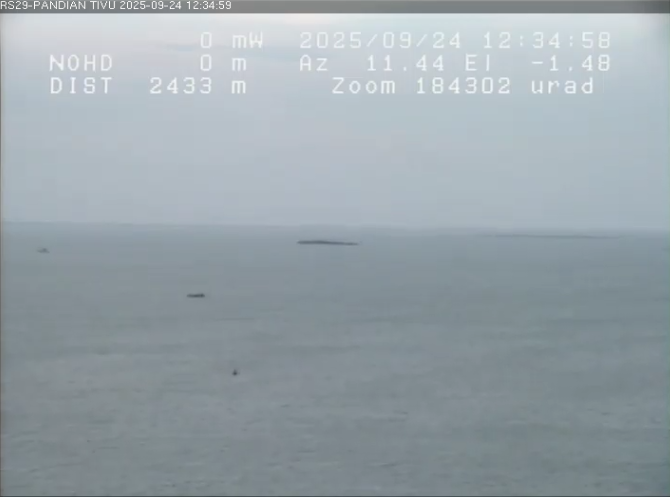FISHING_BOAT: (172, 281, 227, 315)
